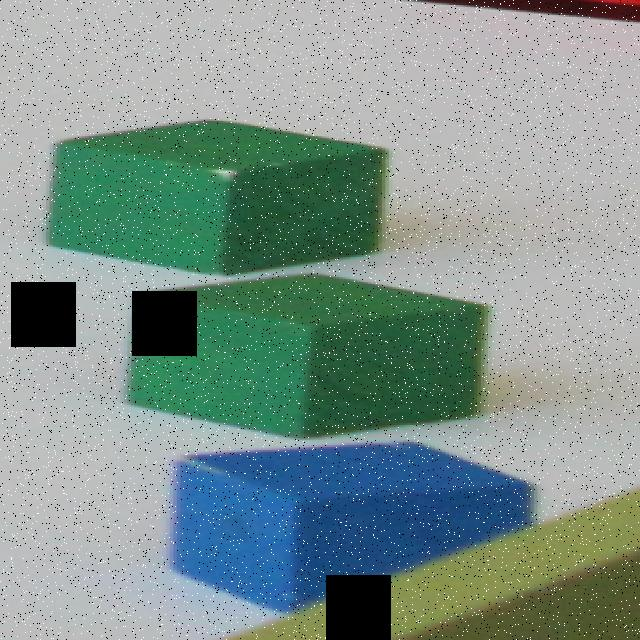bluecube: (168, 442, 529, 614)
green cube: (122, 269, 485, 433), (41, 118, 385, 276)
